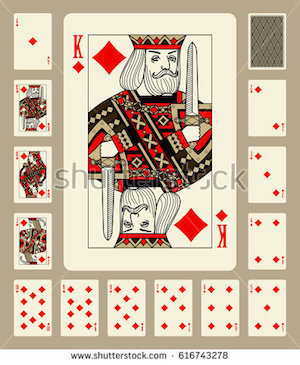AceOfDiamonds: (8, 4, 56, 77)
JackOfDiamonds: (12, 212, 52, 274)
KingOfDiamonds: (63, 8, 241, 278), (9, 81, 57, 142)
NineOfDiamonds: (56, 278, 102, 339)
QueenOfDiamonds: (11, 143, 54, 207)
TenOfDiamonds: (6, 278, 55, 341)
